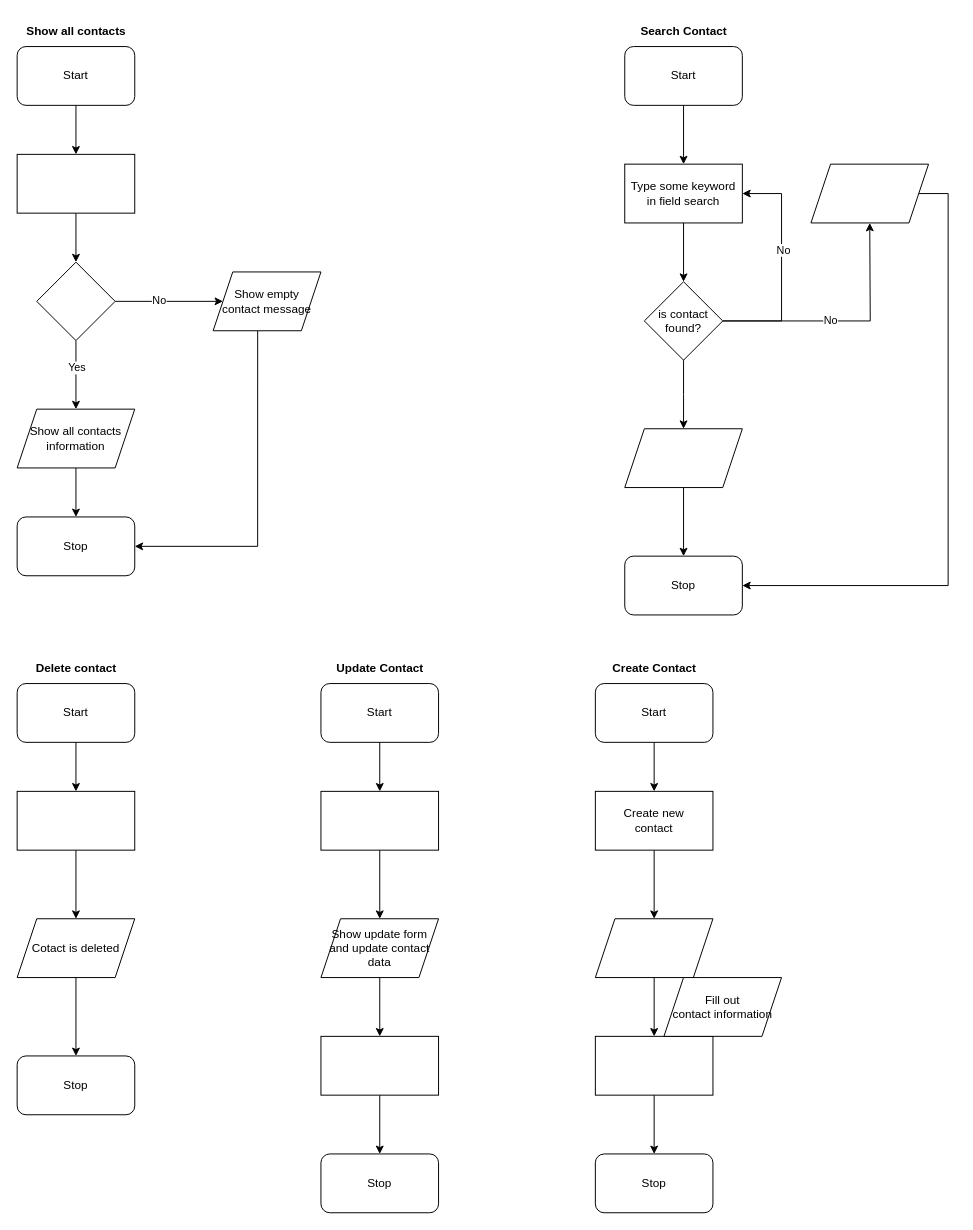
Some shapes in this 973 by 1230 pixel diagram are drawn without their labels. Here are the shapes that lost their labels. From the top down, the centre of each, then its label:
pixel 75 183: User visit dashboard
pixel 869 193: Contact not found
pixel 75 301: Is there any contacts?
pixel 683 458: Contact found
pixel 75 820: Press delete button
pixel 379 820: Press update button
pixel 653 948: Show create form
pixel 379 1065: Press save button
pixel 653 1065: Save new contact
